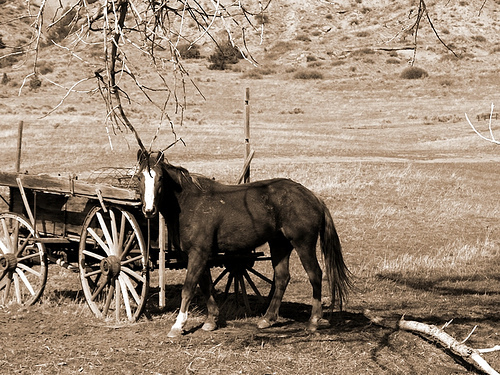horse: (134, 149, 354, 341)
